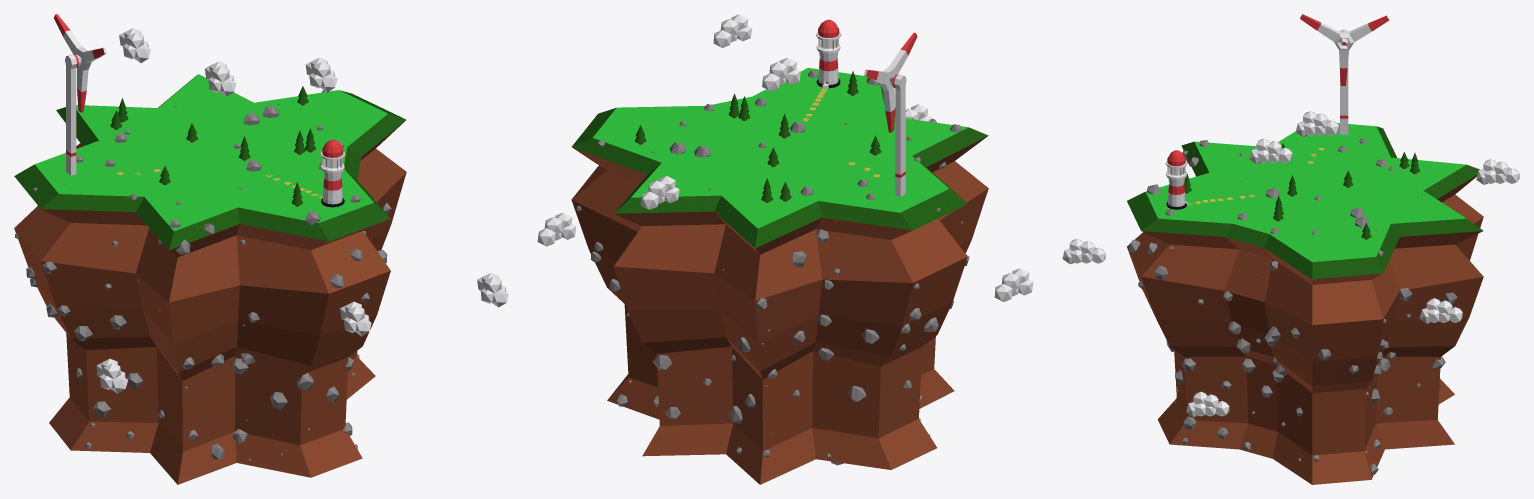
Rendered from sky_island_lowpoly-transformed.glb.
The picture shows the model from 3 angles, left to right: view 1: azimuth 30°, elevation 25°; view 2: azimuth 150°, elevation 25°; view 3: azimuth 270°, elevation 25°; orthographic projection. The views are drawn at different scales.
Parts seen in each view (by area): view 1: Big tree_Wood_0, Propeller; view 2: Big tree_Wood_0, Propeller; view 3: Big tree_Wood_0, Propeller.
Part boxes in pixels (x1,y1,x2,y2): Big tree_Wood_0: [14, 28, 508, 484]; Propeller: [54, 14, 106, 112]; Big tree_Wood_0: [537, 14, 1033, 484]; Propeller: [864, 32, 917, 132]; Big tree_Wood_0: [1062, 29, 1519, 484]; Propeller: [1300, 14, 1389, 85].
Size of the model in its own units: 39.69 by 38.4 by 44.33.
1 material, 1 textured.
